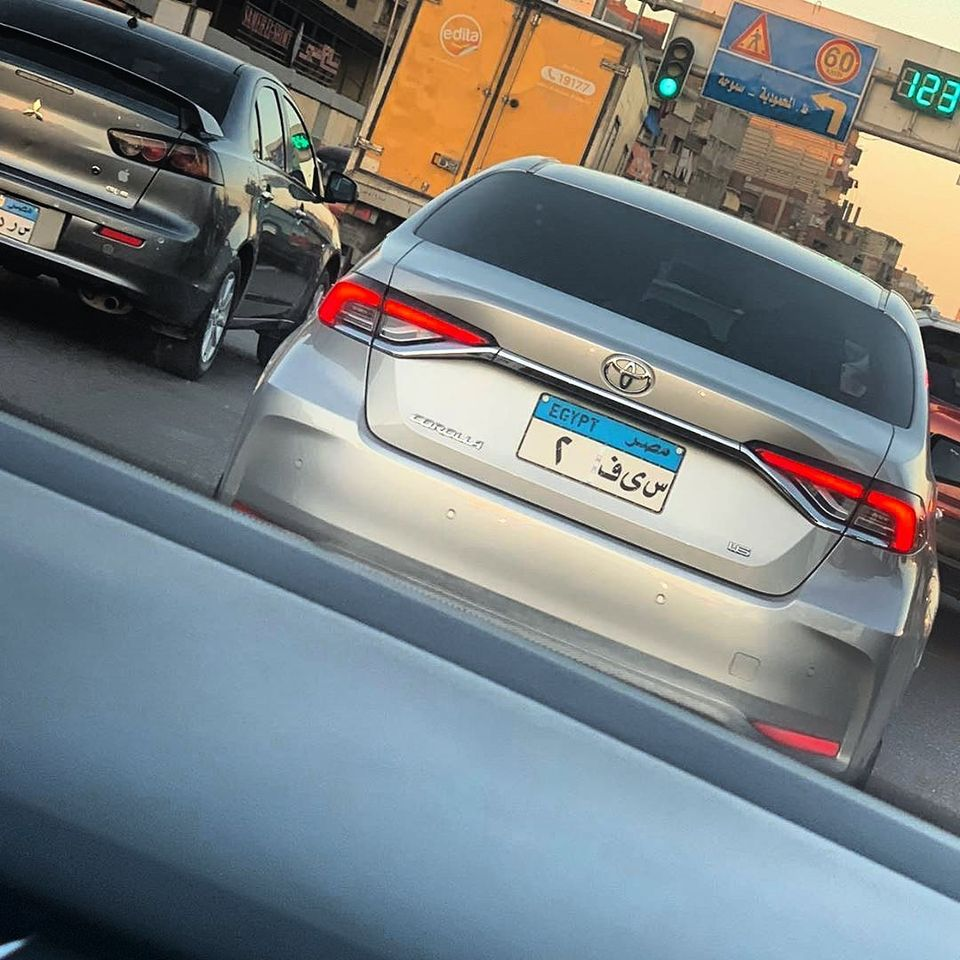carpl: (520, 416, 692, 505)
